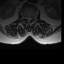CCS_normal: (27, 15, 29, 22)
LFS_normal: (32, 15, 33, 20)
LLS_normal: (29, 15, 31, 21)
RFS_normal: (24, 15, 25, 20)
RLS_normal: (25, 14, 27, 22)
